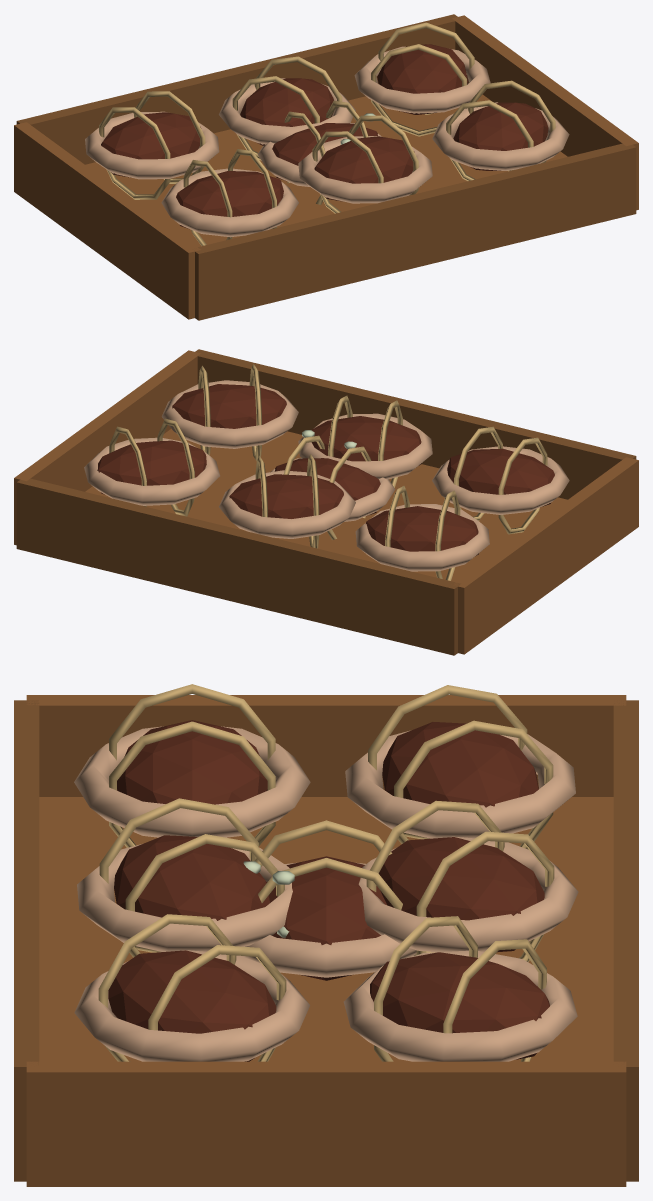
Rendered from Proc_SmokedMeat.fbx.
3 views of the same model, one above another, from view 1: azimuth 30°, elevation 25°; view 2: azimuth 150°, elevation 25°; view 3: azimuth 270°, elevation 25° (orthographic). The views are drawn at different scales.
Parts seen in each view (by area): view 1: Proc_SmokedMeat__Stack, Proc_SmokedMeat; view 2: Proc_SmokedMeat__Stack, Proc_SmokedMeat; view 3: Proc_SmokedMeat__Stack, Proc_SmokedMeat.
Part boxes in pixels (<box>): Proc_SmokedMeat__Stack: <box>14,14,638,320</box>; Proc_SmokedMeat: <box>257,100,381,204</box>; Proc_SmokedMeat__Stack: <box>14,349,638,655</box>; Proc_SmokedMeat: <box>270,435,395,539</box>; Proc_SmokedMeat__Stack: <box>14,684,638,1186</box>; Proc_SmokedMeat: <box>240,820,416,980</box>.
Size of the model in its own units: 0.283 by 0.0636 by 0.198.
